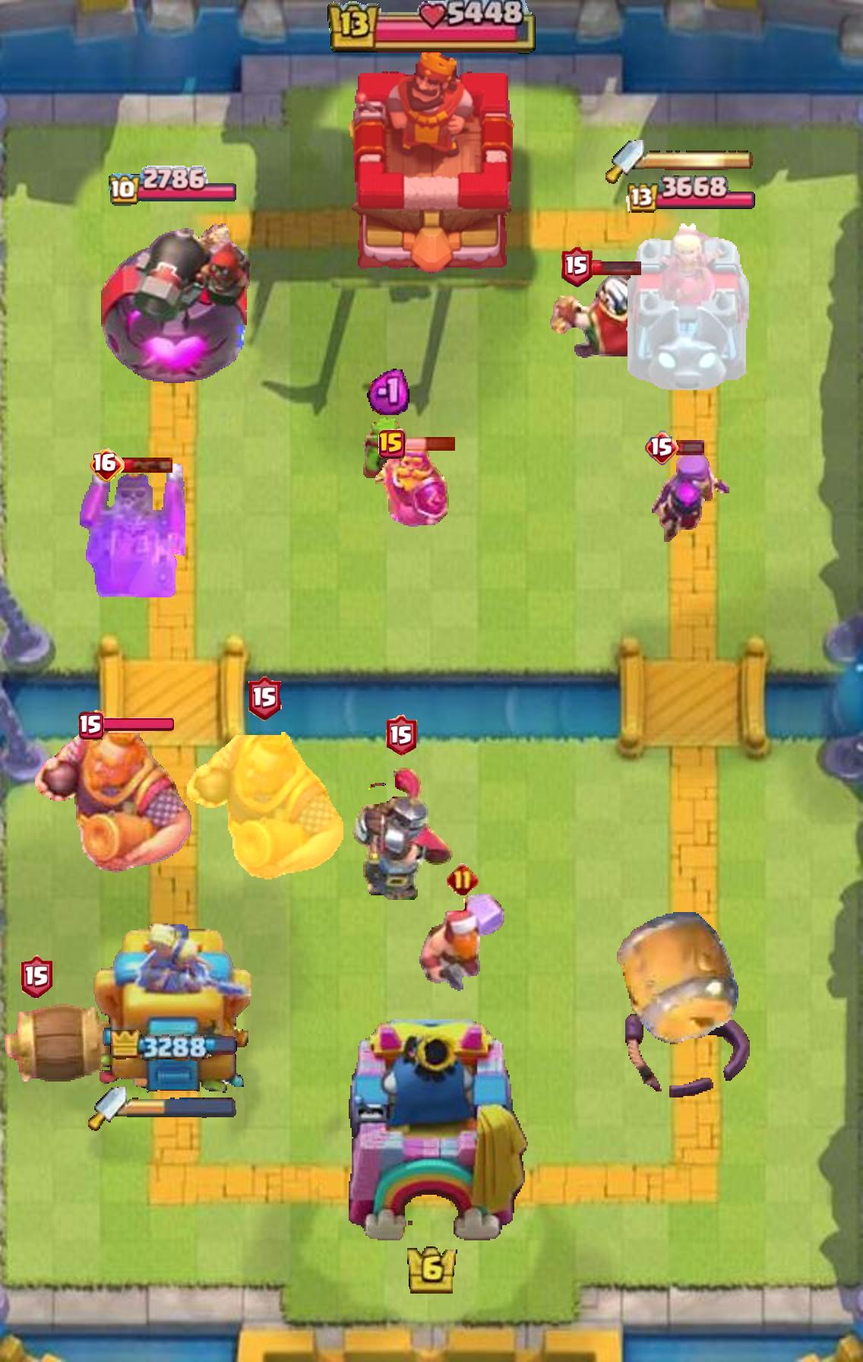elixir: (367, 366, 409, 415)
